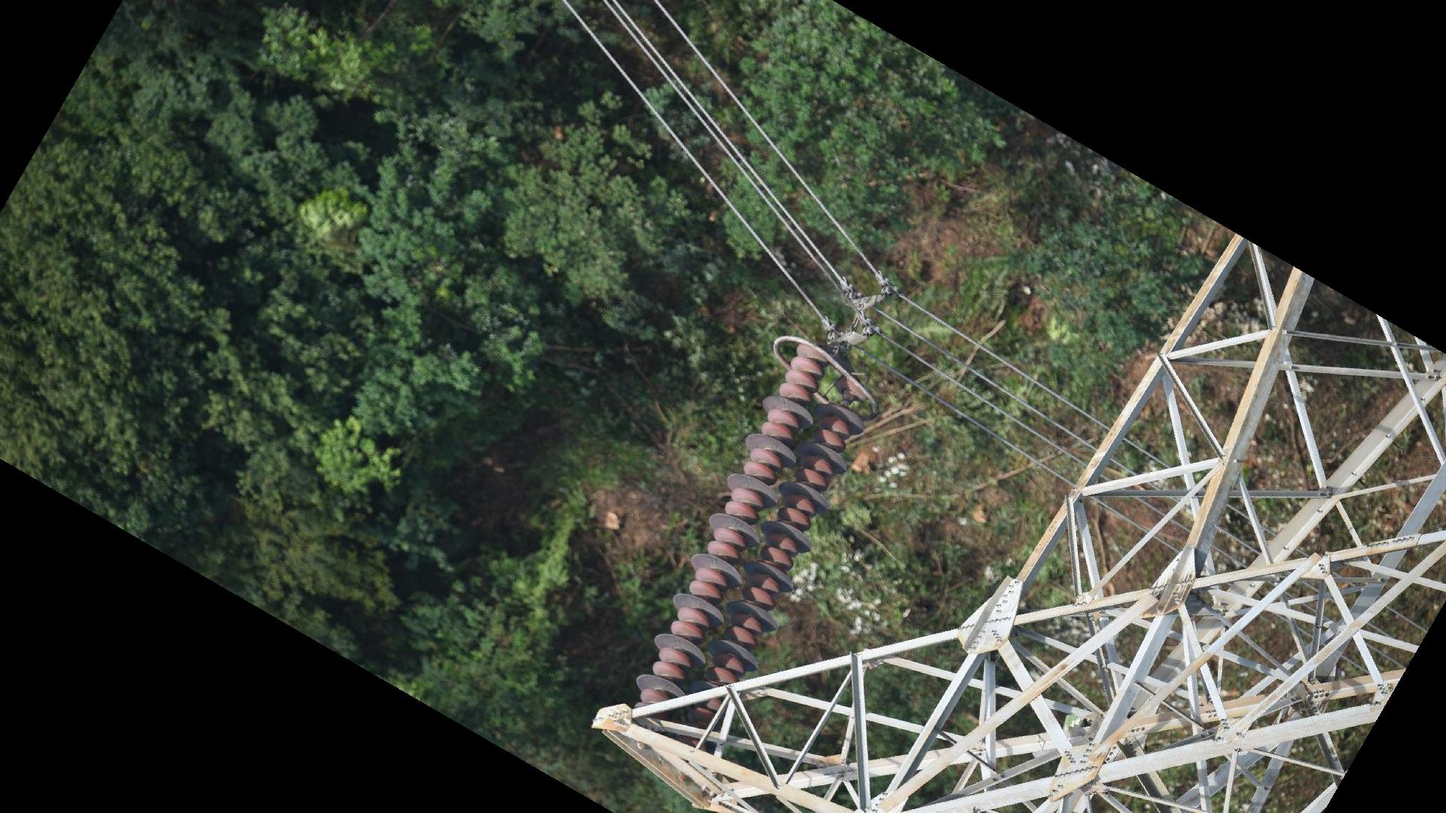insulator: (631, 338, 872, 725)
insulator_stringdrop: (822, 373, 870, 433)
